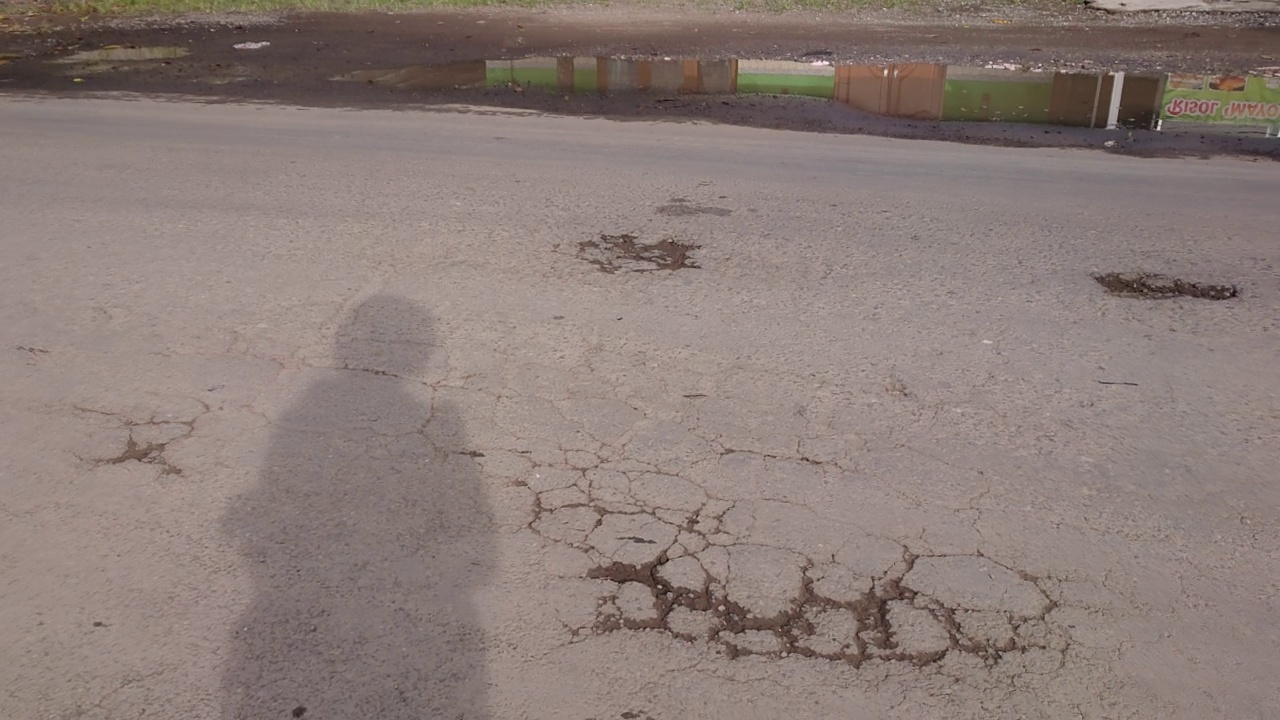Retak: (520, 465, 1113, 678), (569, 220, 708, 297), (1085, 260, 1239, 326), (106, 412, 198, 478)
